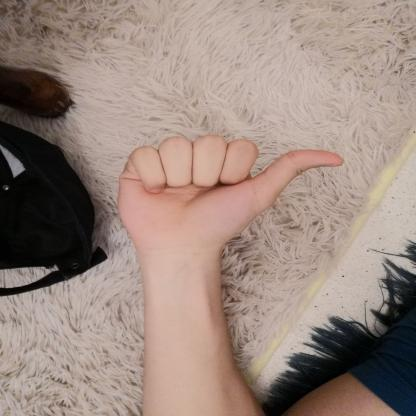DAD: (102, 128, 357, 270)
